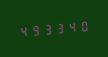four: (17, 23, 28, 39), (66, 18, 77, 34)
nine: (29, 22, 40, 38)
three: (42, 21, 53, 37), (54, 20, 65, 36)
zero: (78, 17, 89, 33)
